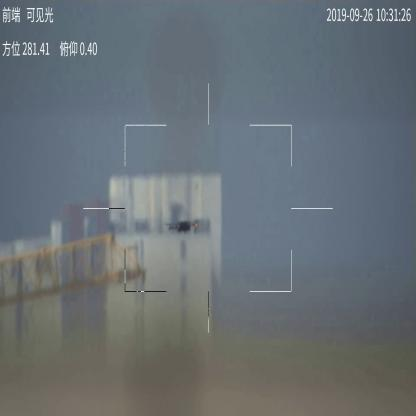uav: (161, 215, 201, 235)
